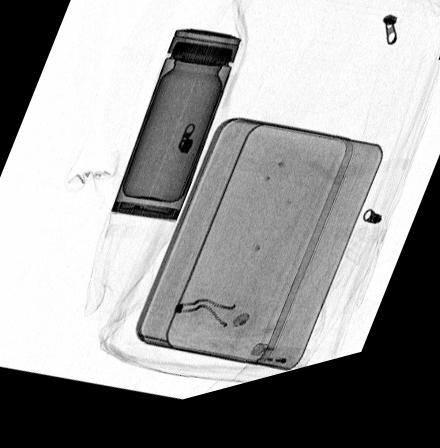Lighter: (245, 357, 314, 385)
